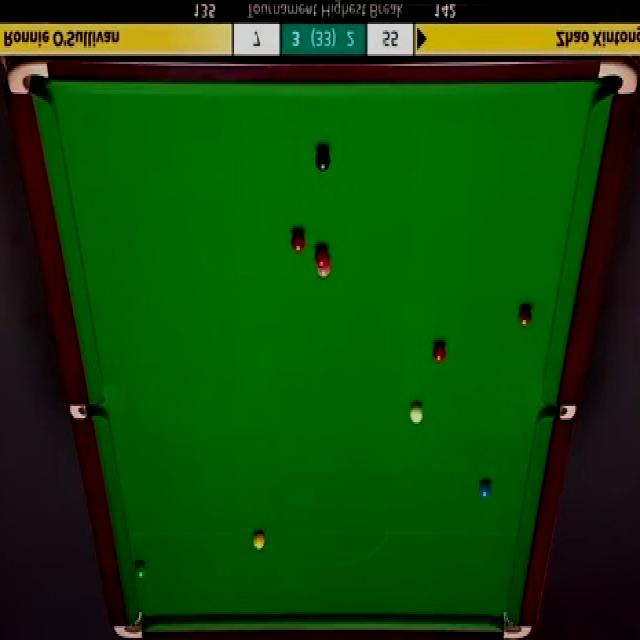pocket: (5, 57, 51, 95), (594, 60, 637, 98), (500, 608, 532, 640), (112, 611, 147, 640), (540, 403, 577, 422), (68, 403, 104, 420)
